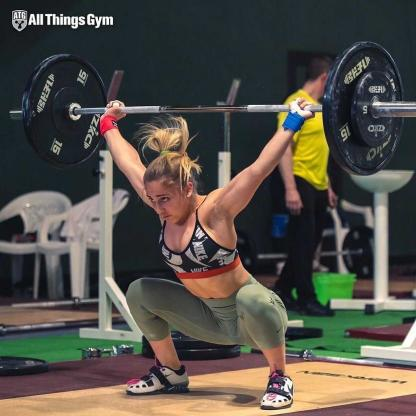barbell: (329, 42, 406, 177), (28, 55, 114, 170)
